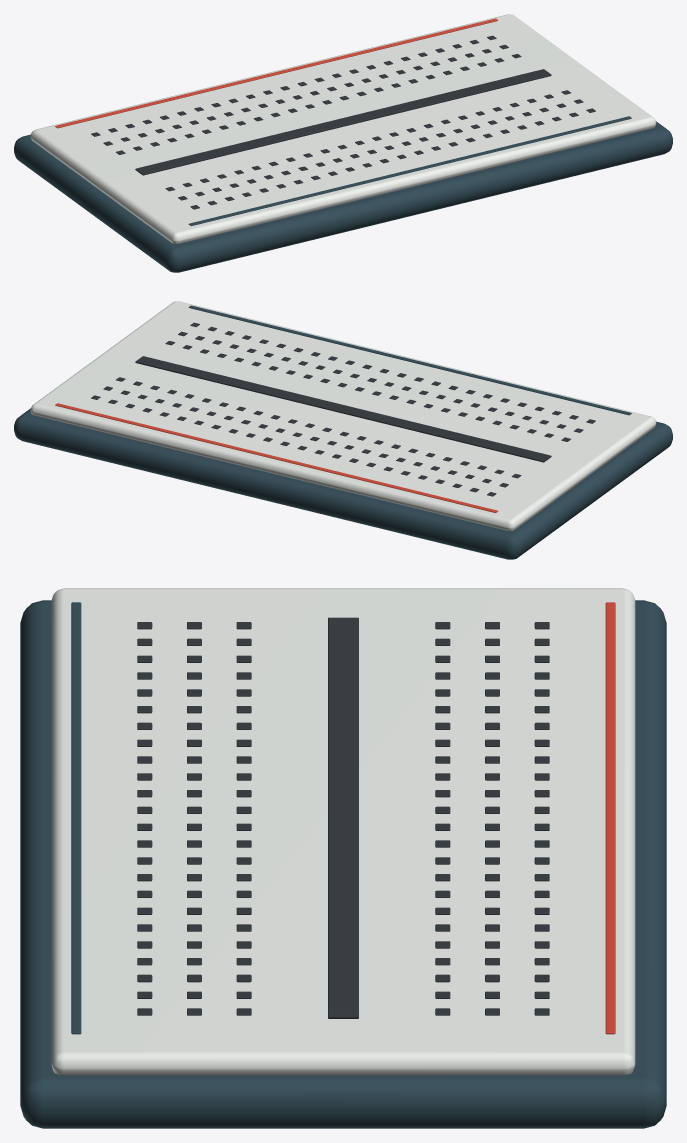
The model's file is ENG_Breadboard.fbx.
3 views of the same model, one above another, from view 1: azimuth 30°, elevation 25°; view 2: azimuth 150°, elevation 25°; view 3: azimuth 270°, elevation 25° (orthographic). The views are drawn at different scales.
Parts seen in each view (by area): view 1: ContactDeck, Backing, ContactPattern, Channel, RailStripe, RailStripe.001; view 2: ContactDeck, Backing, ContactPattern, Channel, RailStripe.001, RailStripe; view 3: ContactDeck, Backing, ContactPattern, Channel, RailStripe, RailStripe.001.
Boxes of the visible parts, x1,y1,x2,y2 form: ContactDeck: (30, 14, 656, 244); Backing: (14, 121, 672, 272); ContactPattern: (91, 35, 595, 209); Channel: (135, 69, 551, 175); RailStripe: (55, 18, 498, 128); RailStripe.001: (188, 116, 631, 225); ContactDeck: (30, 301, 656, 531); Backing: (14, 408, 672, 559); ContactPattern: (91, 322, 595, 496); Channel: (135, 356, 551, 462); RailStripe.001: (188, 305, 631, 415); RailStripe: (55, 403, 498, 512); ContactDeck: (51, 588, 635, 1075); Backing: (20, 600, 666, 1128); ContactPattern: (137, 622, 549, 1015); Channel: (328, 617, 358, 1018); RailStripe: (605, 602, 615, 1034); RailStripe.001: (71, 602, 81, 1034).
Bounding box in the file's own units: 94 × 6.45 × 52.
